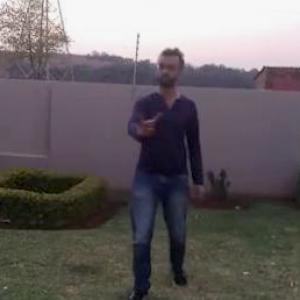takeoff-hand: (131, 105, 163, 138)
